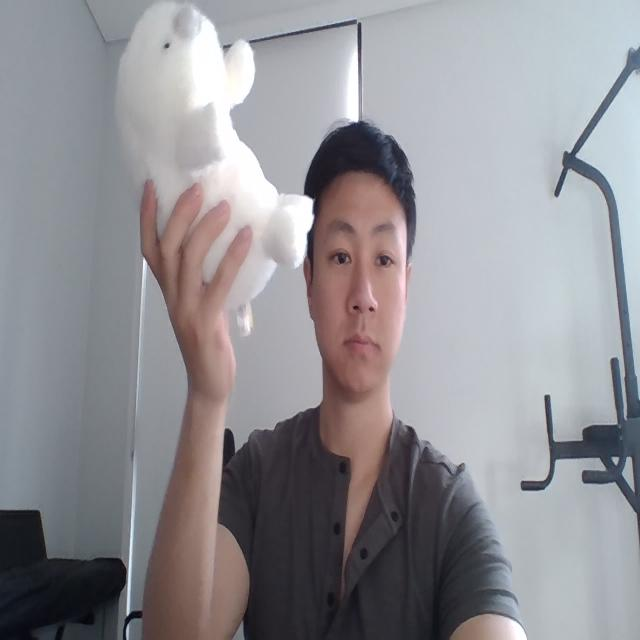seal_bb: (113, 0, 313, 310)
